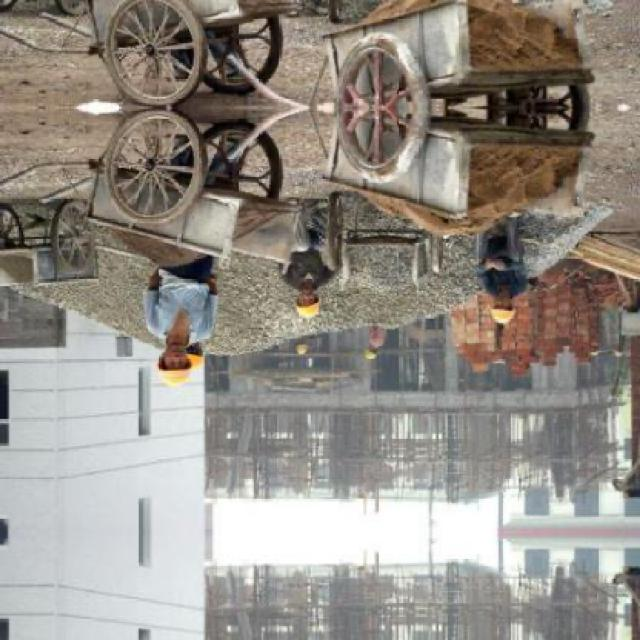con casco: (434, 267, 566, 353), (130, 332, 210, 404), (301, 255, 355, 338)
